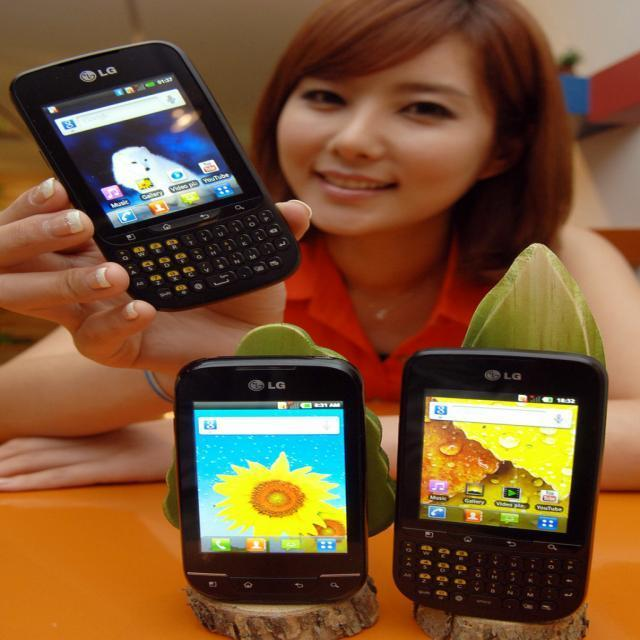Phone: (7, 36, 302, 314), (394, 345, 611, 627), (172, 354, 368, 605)
